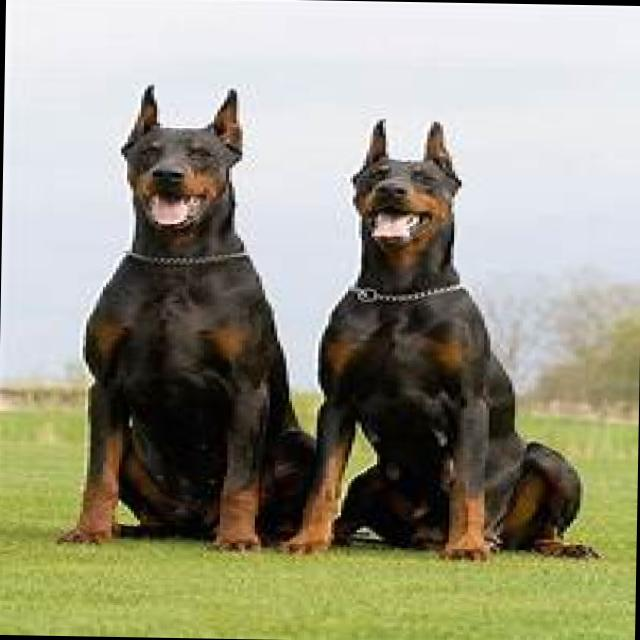animal: (276, 114, 608, 564), (53, 80, 326, 550)
